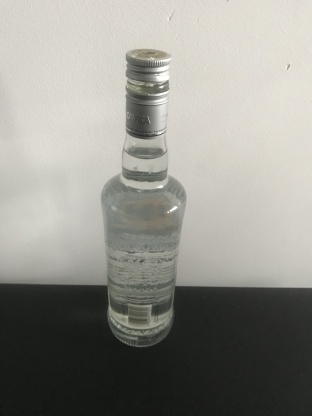nakretka: (124, 47, 172, 140)
